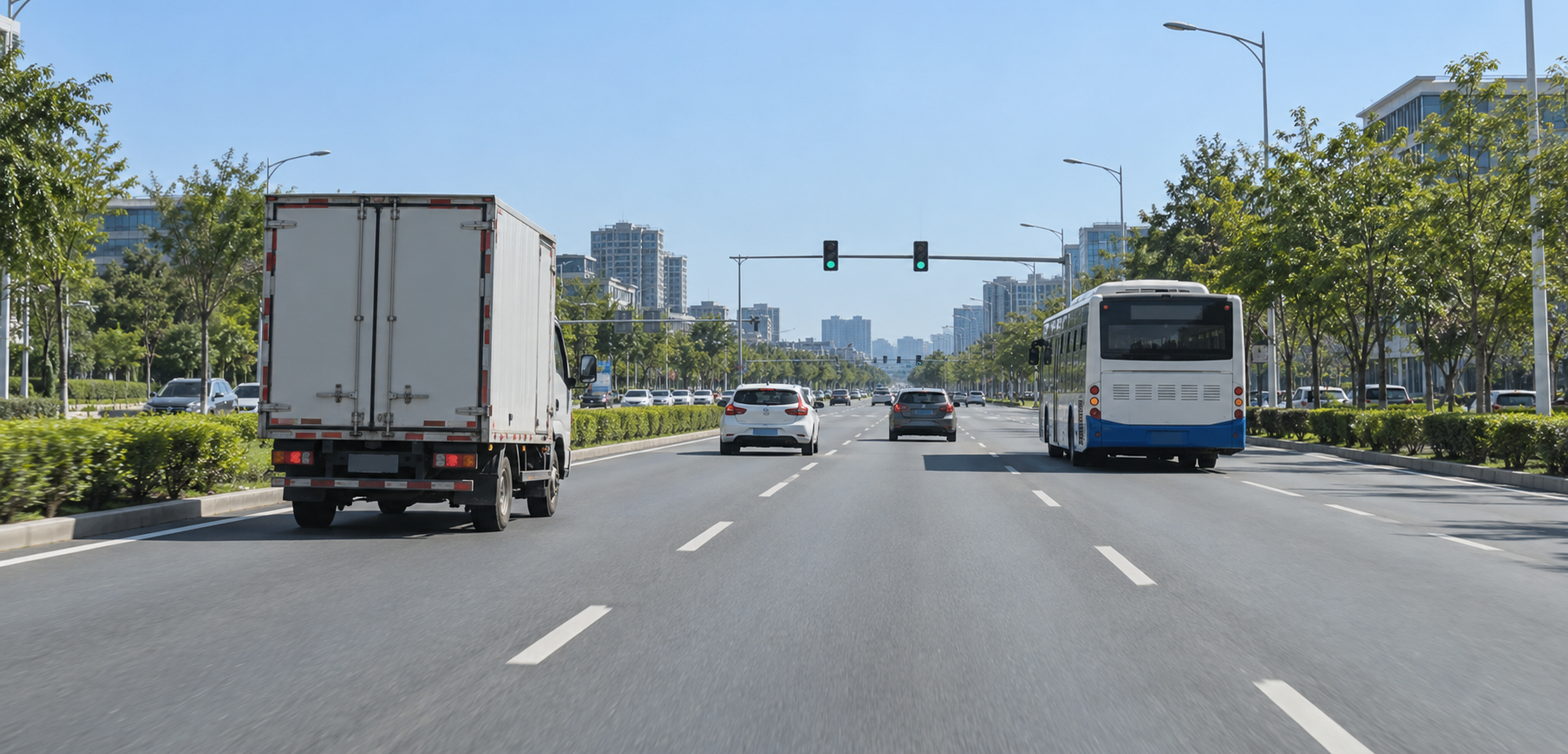bus: (1024, 281, 1245, 466)
car: (721, 385, 813, 451), (886, 388, 957, 440), (591, 385, 624, 412), (966, 386, 994, 412), (629, 386, 658, 409), (663, 385, 690, 408), (1003, 385, 1027, 409)
traffic_light: (913, 239, 929, 274), (825, 239, 840, 274)
truck: (261, 195, 585, 529)
